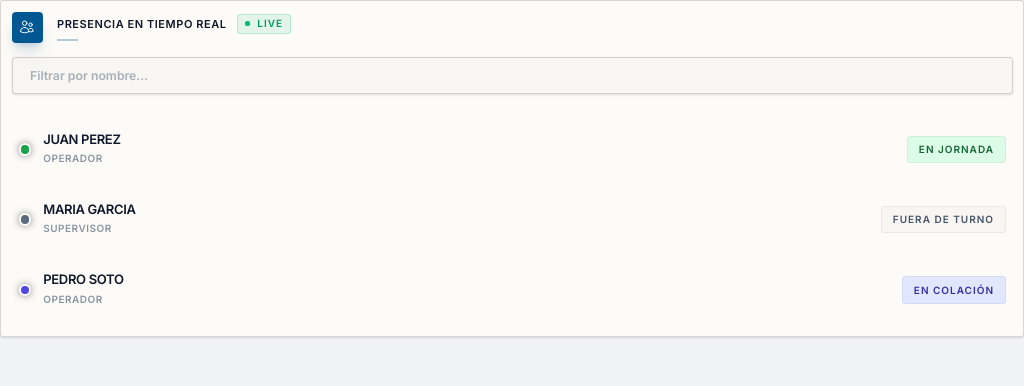
Test: LiveStatusPanel Component › should show empty state message when no employees match filters
Type "Inexistente" into the search field with placeholder "Filtrar por nombre..." at (512, 76), box [12,57,1012,94]
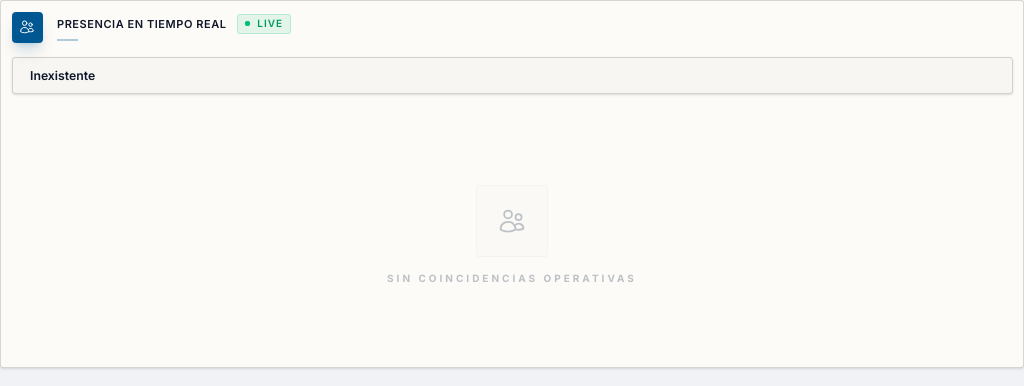
Check: the text "Sin coincidencias operativas" is shown, box [387,271,637,286]
